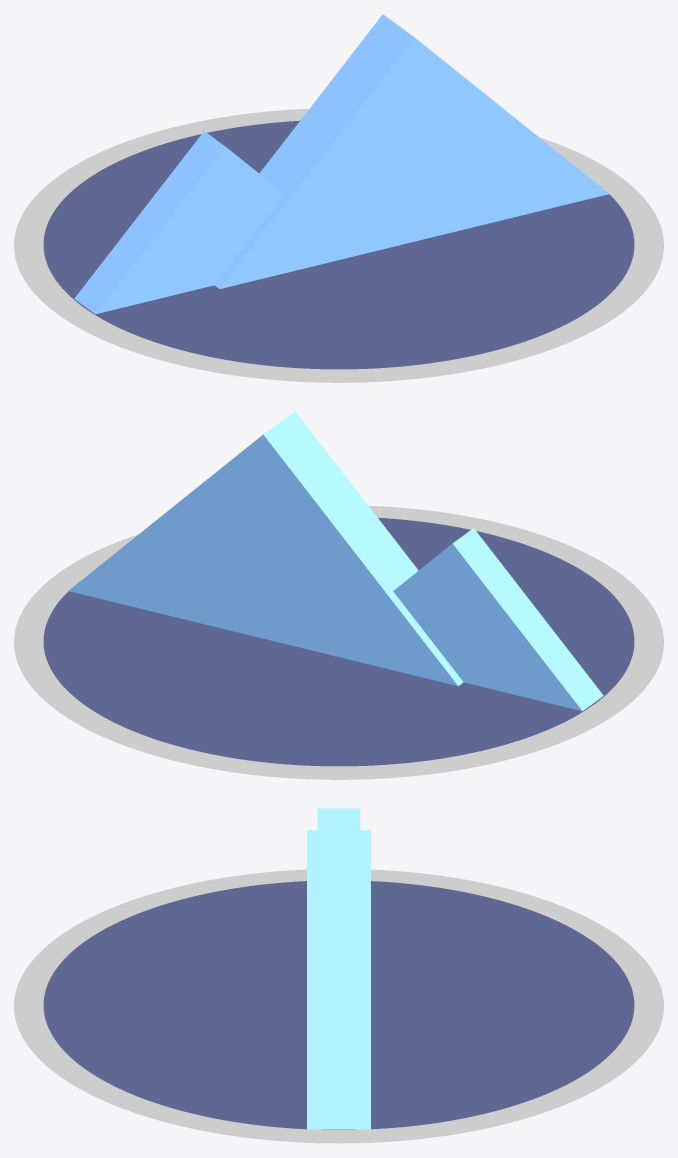
The model's file is mountainhacks_mountain.fbx.
The picture shows the model from 3 angles, top to bottom: view 1: azimuth 30°, elevation 25°; view 2: azimuth 150°, elevation 25°; view 3: azimuth 270°, elevation 25°; orthographic projection.
Visible parts, largest first — view 1: mountain; view 2: mountain; view 3: mountain.
Boxes of the visible parts, <box> form: mountain: <box>14,14,663,382</box>; mountain: <box>14,411,663,779</box>; mountain: <box>14,808,663,1143</box>.
Bounding box in the file's own units: 612 × 213 × 612.
